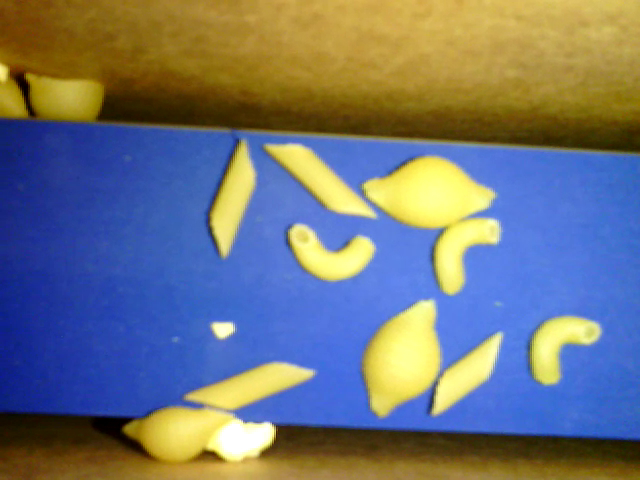elbow: (432, 215, 499, 300), (527, 313, 602, 388), (289, 222, 376, 283)
penne: (267, 141, 371, 219), (183, 357, 320, 410), (205, 134, 258, 259), (432, 332, 504, 414)
shell: (362, 154, 495, 232), (357, 299, 440, 421), (120, 403, 234, 462), (23, 68, 105, 126)
